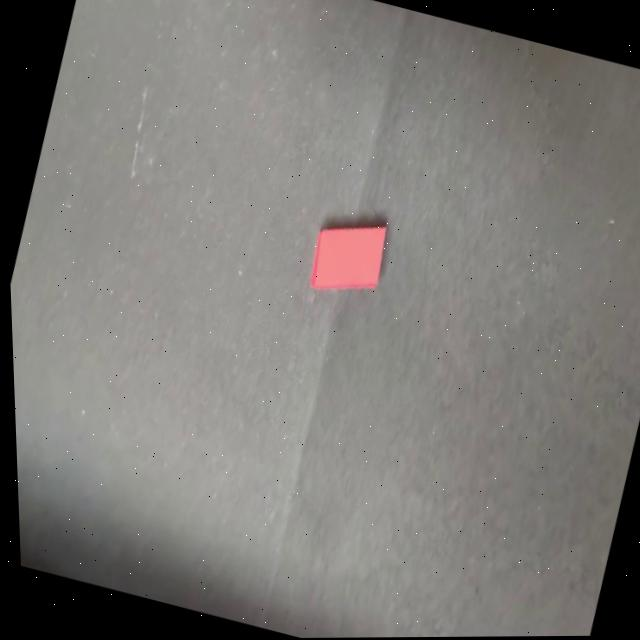red block: (302, 208, 394, 304)
